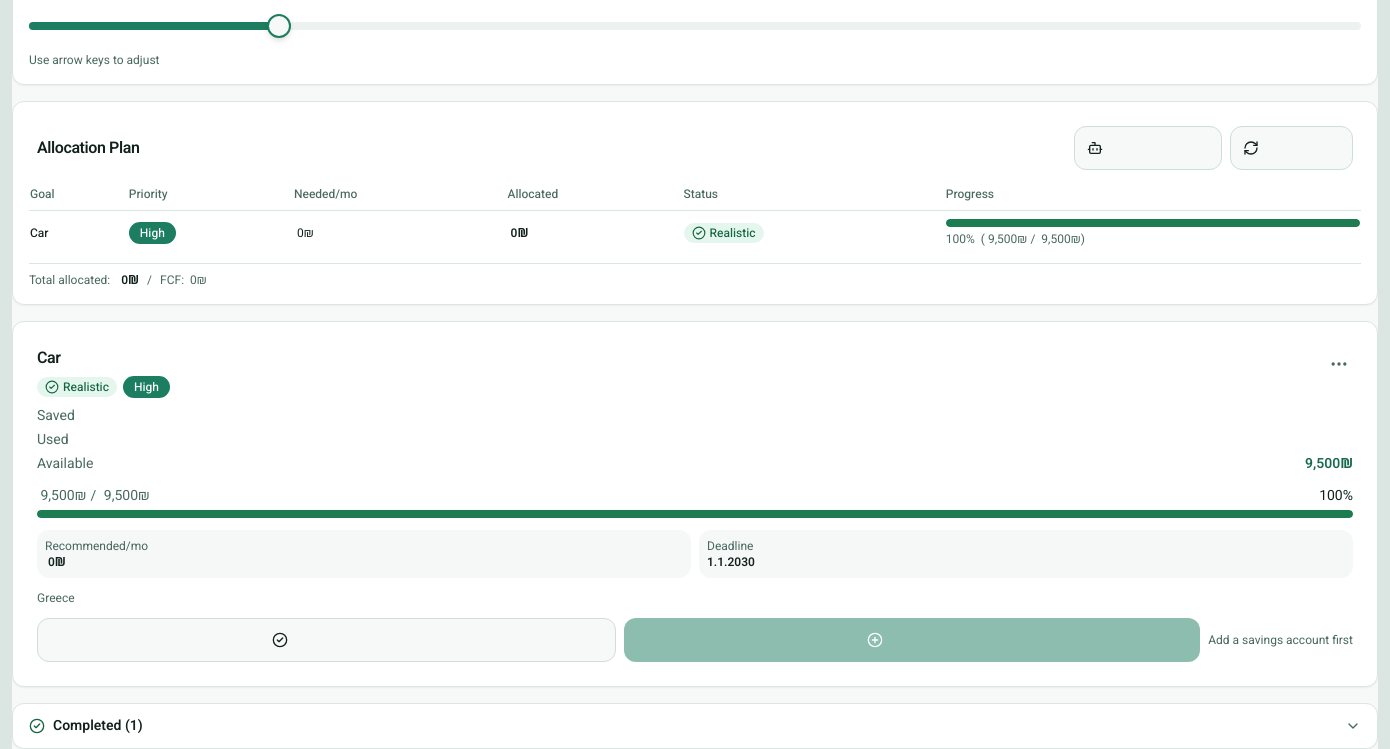
Goals tab — active list and Completed section › shows only active goals as cards and a collapsed Completed (1) section
(page scrolled)
Click the button "Completed (1)".
click(87, 726)  # box [13,704,1377,748]
(page scrolled)
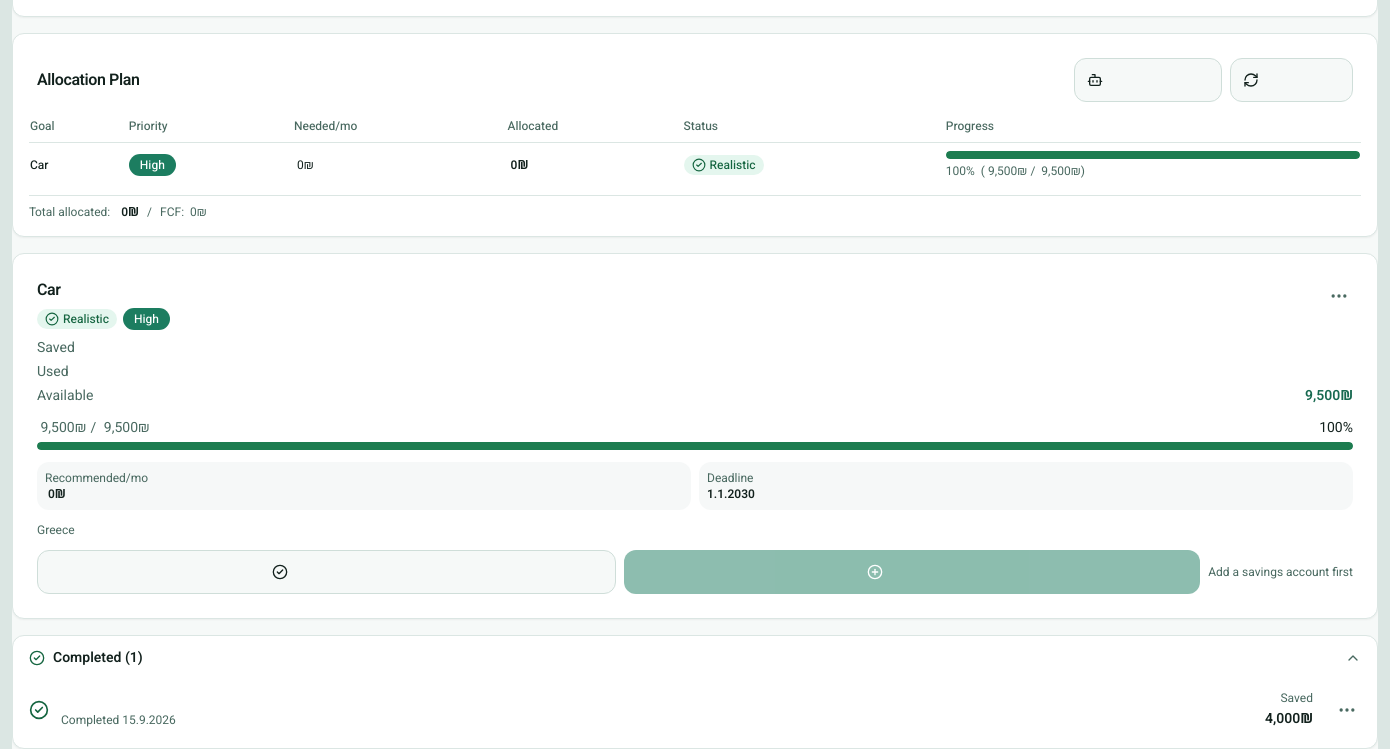
Now the button "Completed (1)" is expanded, box [13,636,1377,680]
Now the button named "Actions for Vacation" is shown, box [1325,688,1369,732]
